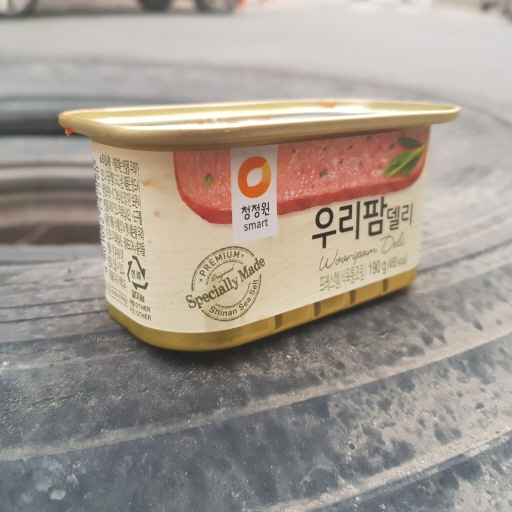Metal_2: (61, 97, 468, 352)
